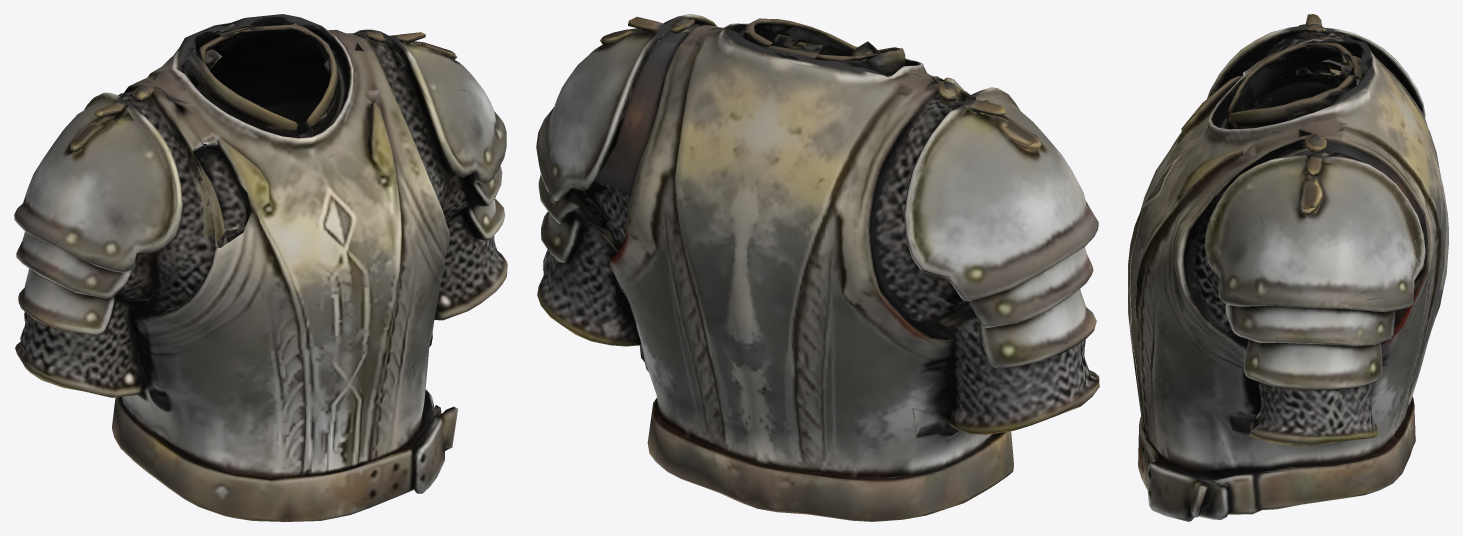
Rendered from Meshy_Model_Import0002.fbx.
3 renders of one model, left to right at view 1: azimuth 30°, elevation 25°; view 2: azimuth 150°, elevation 25°; view 3: azimuth 270°, elevation 25°, orthographic. The views are drawn at different scales.
Parts seen in each view (by area): view 1: Mesh_0; view 2: Mesh_0; view 3: Mesh_0.
Part boxes in pixels (x1,y1,x2,y2): Mesh_0: [14, 14, 507, 521]; Mesh_0: [536, 14, 1099, 521]; Mesh_0: [1128, 14, 1448, 521].
Size of the model in its own units: 190 by 160 by 113.
1 material, 1 textured.
